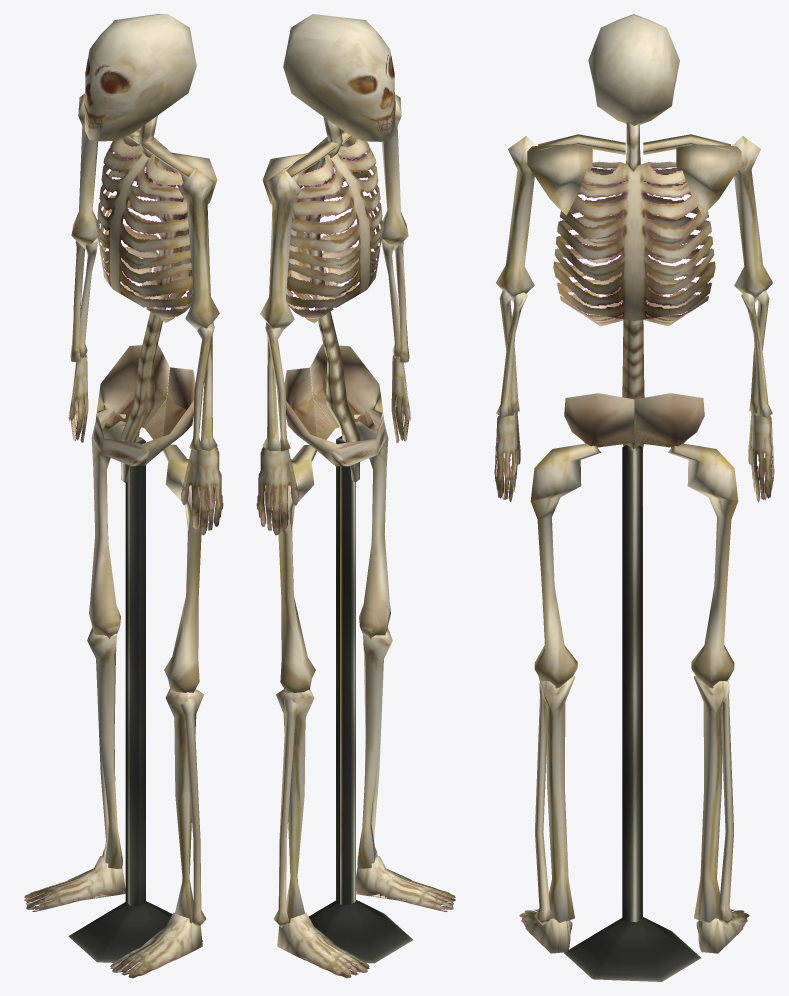
Rendered from a_SCgen39.glb.
The picture shows the model from 3 angles, left to right: view 1: azimuth 30°, elevation 25°; view 2: azimuth 150°, elevation 25°; view 3: azimuth 270°, elevation 25°; orthographic projection. The views are drawn at different scales.
Visible parts, largest first — view 1: a_SCgen39; view 2: a_SCgen39; view 3: a_SCgen39.
Boxes of the visible parts, left/top/right/bottom form: a_SCgen39: left=24, top=14, right=223, bottom=978; a_SCgen39: left=256, top=14, right=455, bottom=978; a_SCgen39: left=494, top=14, right=774, bottom=981.
Bounding box in the file's own units: 0.2636 × 1.82 × 0.4948.
Materials: 1 (1 with a texture image).
